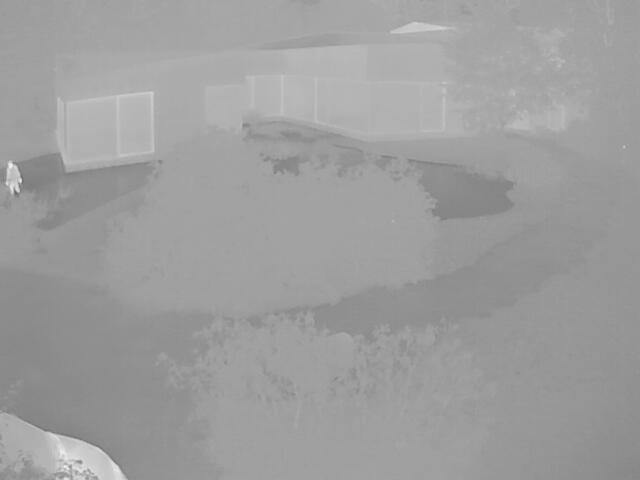person: (4, 159, 22, 195)
